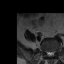CCS_stenosis: (49, 48, 51, 59)
LFS_normal: (54, 47, 57, 54)
LLS_normal: (51, 48, 54, 57)
RFS_stenosis: (44, 47, 46, 54)
RLS_normal: (46, 48, 49, 58)
